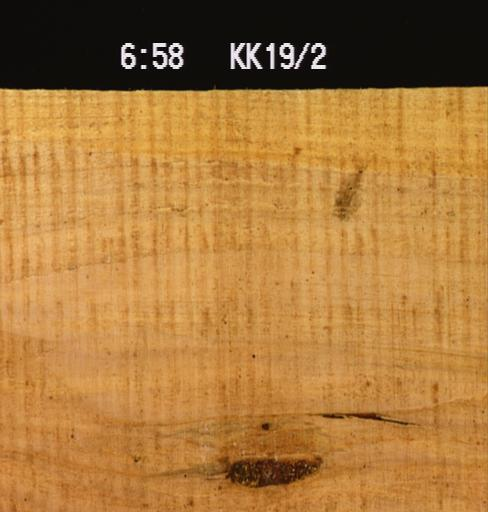small_knot: (259, 418, 270, 431)
